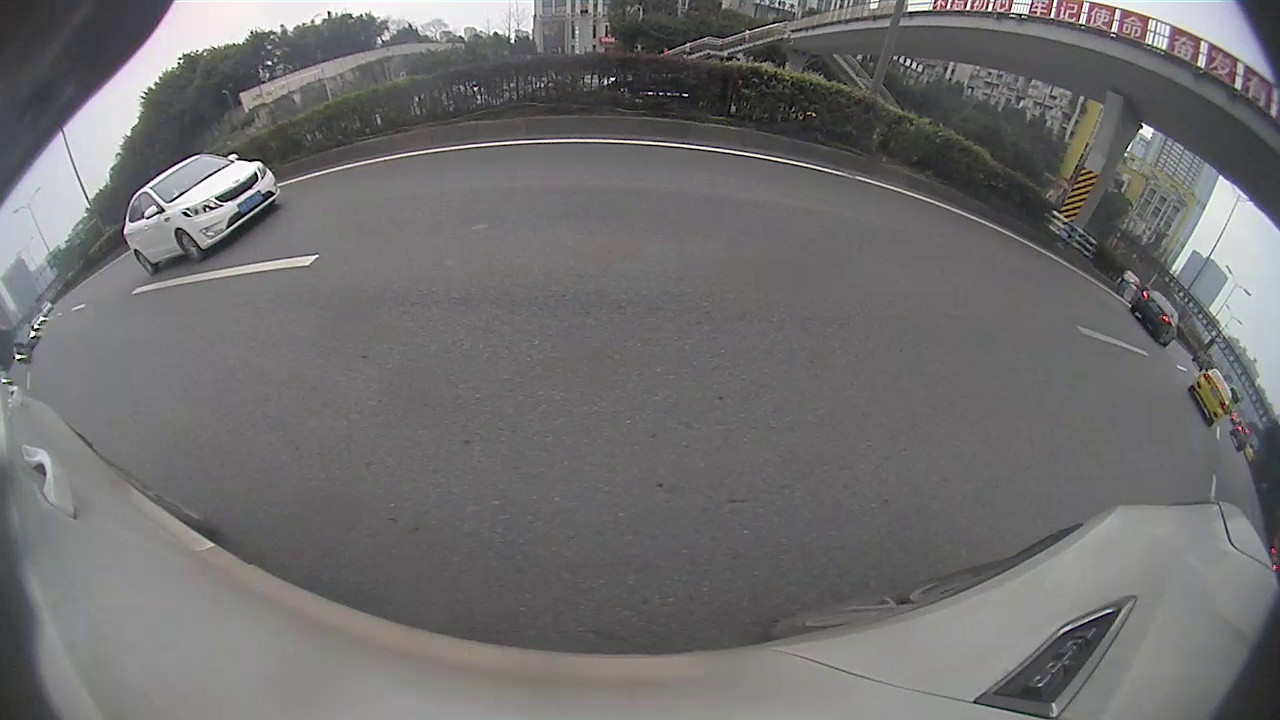car: (122, 152, 282, 277), (1188, 359, 1237, 428), (1128, 286, 1181, 349)
front: (176, 231, 207, 266)
rear: (133, 251, 159, 277)
